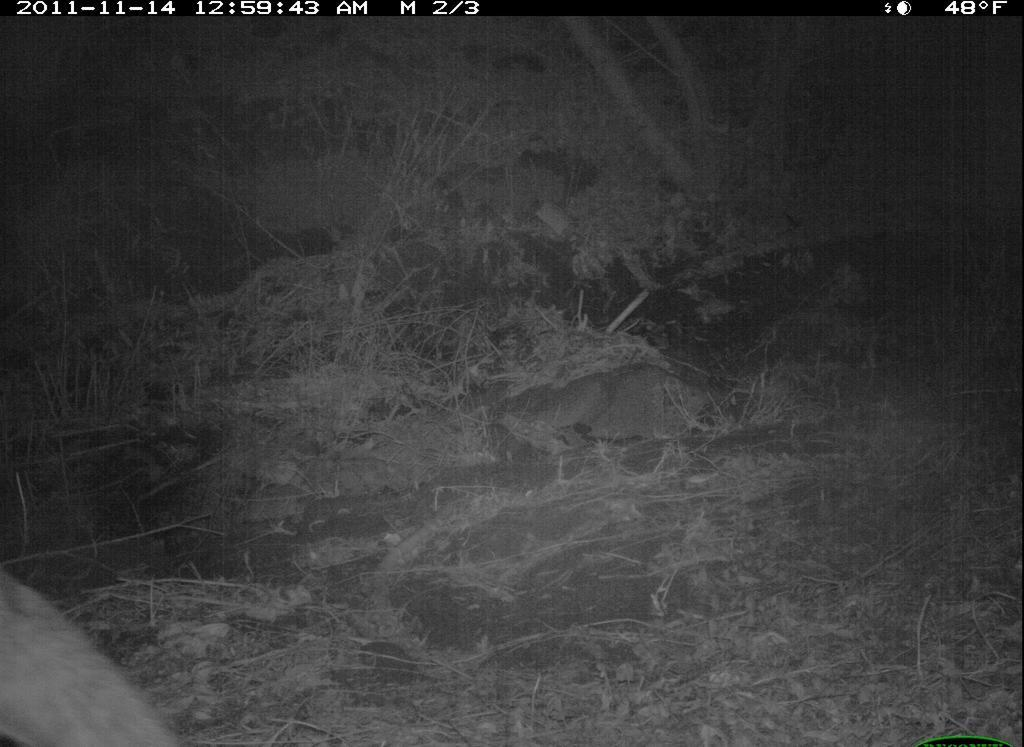coyote: (3, 555, 186, 744)
